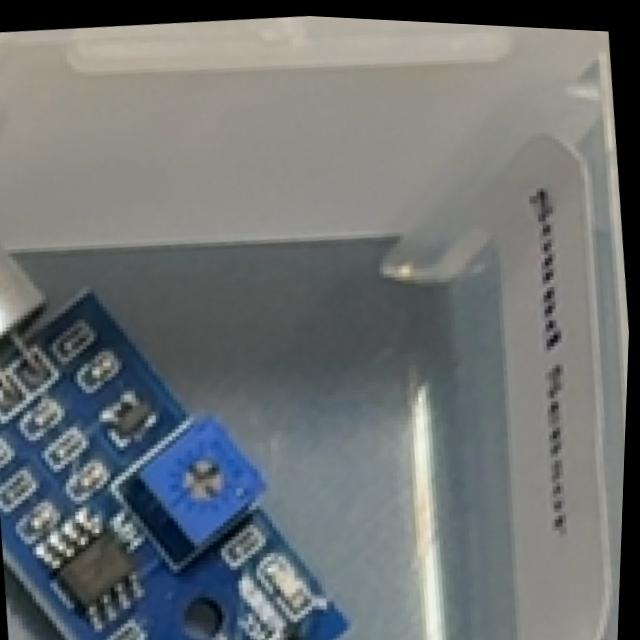Sound Sensor: (0, 193, 369, 640)
